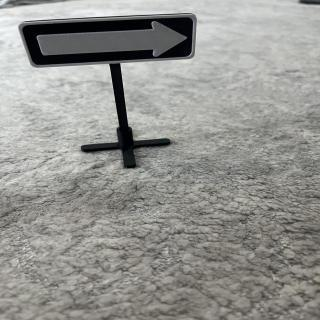sign_oneway_right: (19, 12, 199, 70)
